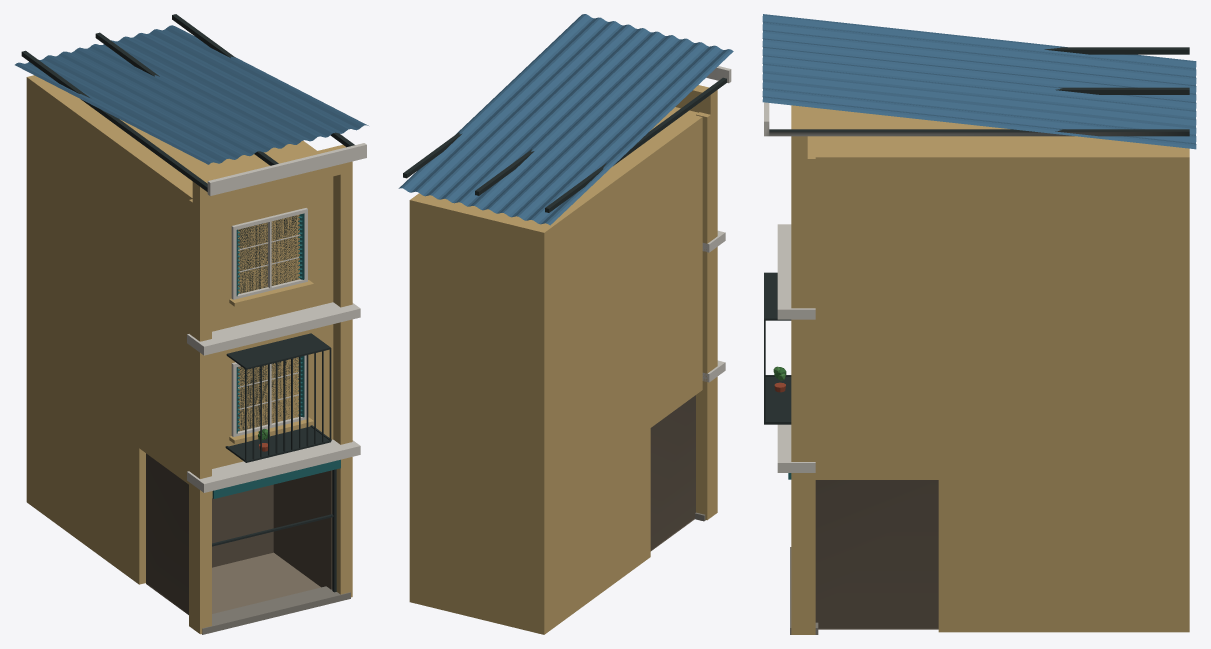
The model's file is nha_I.glb.
3 renders of one model, left to right at view 1: azimuth 30°, elevation 25°; view 2: azimuth 150°, elevation 25°; view 3: azimuth 270°, elevation 25°, orthographic. The views are drawn at different scales.
Visible parts, largest first — view 1: nha_I; view 2: nha_I; view 3: nha_I.
Part boxes in pixels (box(x1,y1,x2,y2)): nha_I: box(15, 14, 368, 634); nha_I: box(398, 14, 733, 634); nha_I: box(762, 14, 1196, 634).
Size of the model in its own units: 3.8 by 10.88 by 7.95.
